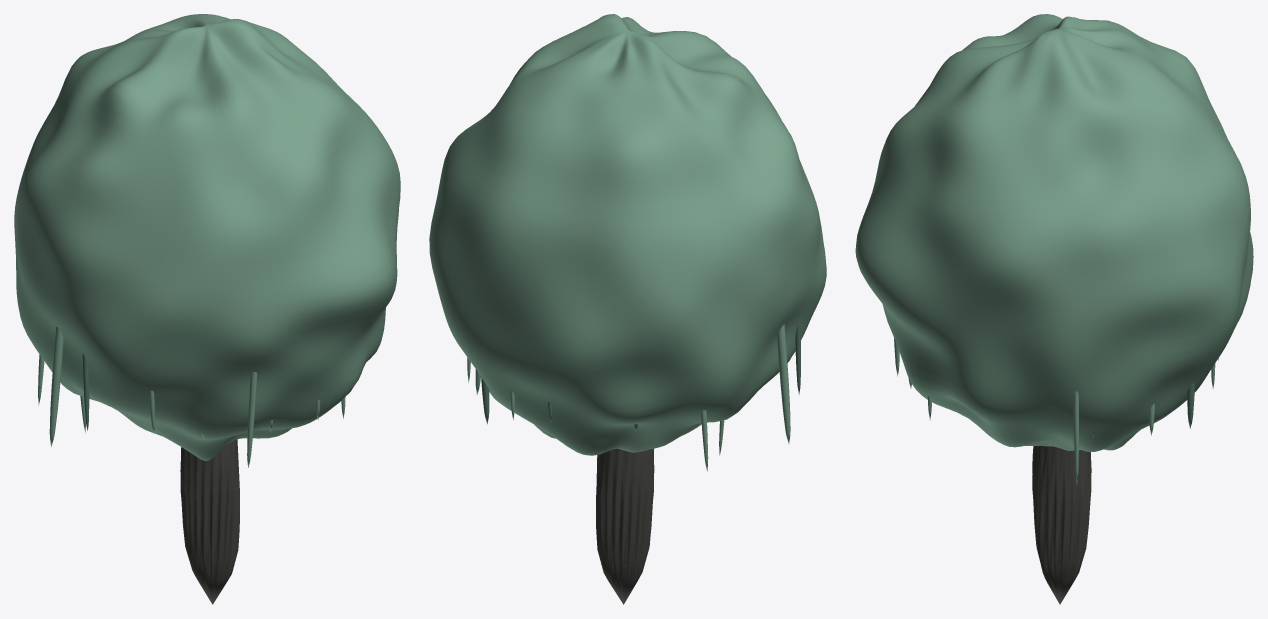
Rendered from weeping_willow.glb.
The picture shows the model from 3 angles, left to right: view 1: azimuth 30°, elevation 25°; view 2: azimuth 150°, elevation 25°; view 3: azimuth 270°, elevation 25°; orthographic projection.
Visible parts, largest first — view 1: WeepingWillow; view 2: WeepingWillow; view 3: WeepingWillow.
Part boxes in pixels (x1=…): WeepingWillow: x1=14, y1=14, x2=400, y2=604; WeepingWillow: x1=429, y1=14, x2=826, y2=604; WeepingWillow: x1=855, y1=14, x2=1253, y2=604.
Size of the model in its own units: 4.7 by 7.81 by 4.87.
